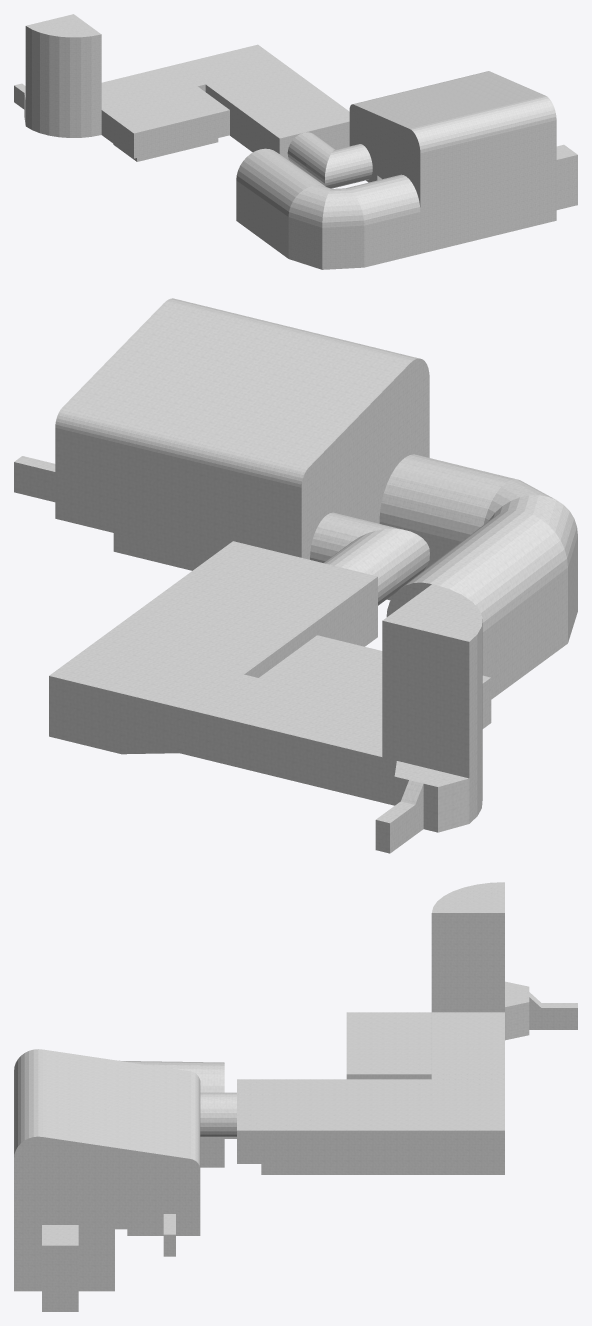
File: DemoLevel.fbx
3 views of the same model, one above another, from view 1: azimuth 30°, elevation 25°; view 2: azimuth 150°, elevation 25°; view 3: azimuth 270°, elevation 25° (orthographic). The views are drawn at different scales.
Parts seen in each view (by area): view 1: Plane; view 2: Plane; view 3: Plane.
Part boxes in pixels (x1,y1,x2,y2): Plane: [14, 14, 577, 269]; Plane: [14, 298, 577, 853]; Plane: [14, 882, 577, 1311].
Bounding box in the file's own units: 4700 × 1700 × 4630.
